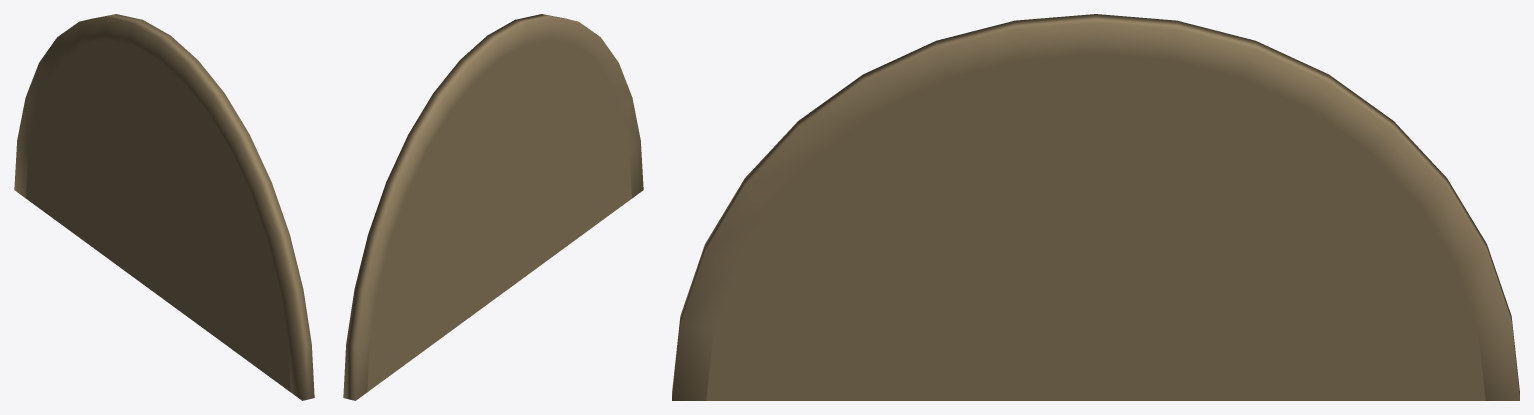
The model's file is Arch_Wall_02.fbx.
The picture shows the model from 3 angles, left to right: view 1: azimuth 30°, elevation 25°; view 2: azimuth 150°, elevation 25°; view 3: azimuth 270°, elevation 25°; orthographic projection. The views are drawn at different scales.
Visible parts, largest first — view 1: Arch_Wall_02; view 2: Arch_Wall_02; view 3: Arch_Wall_02.
Boxes of the visible parts, <box> form: Arch_Wall_02: <box>14,14,314,400</box>; Arch_Wall_02: <box>343,14,643,400</box>; Arch_Wall_02: <box>672,14,1519,400</box>.
Size of the model in its own units: 15.95 by 320 by 651.
